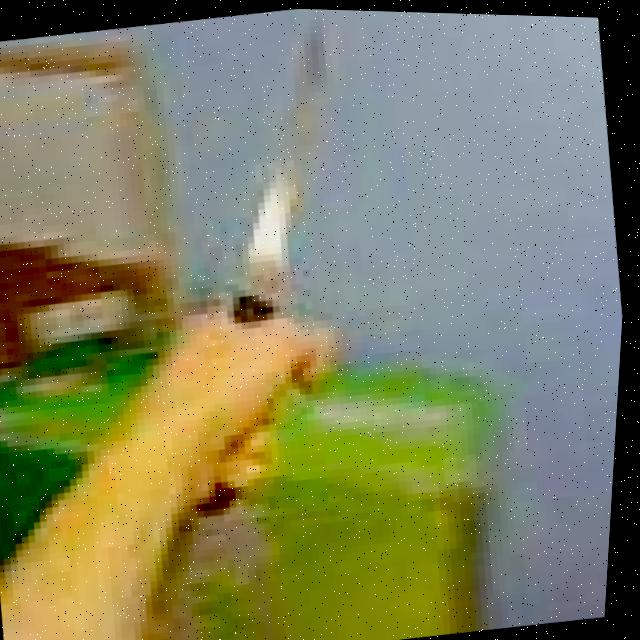knife: (192, 14, 368, 332)
